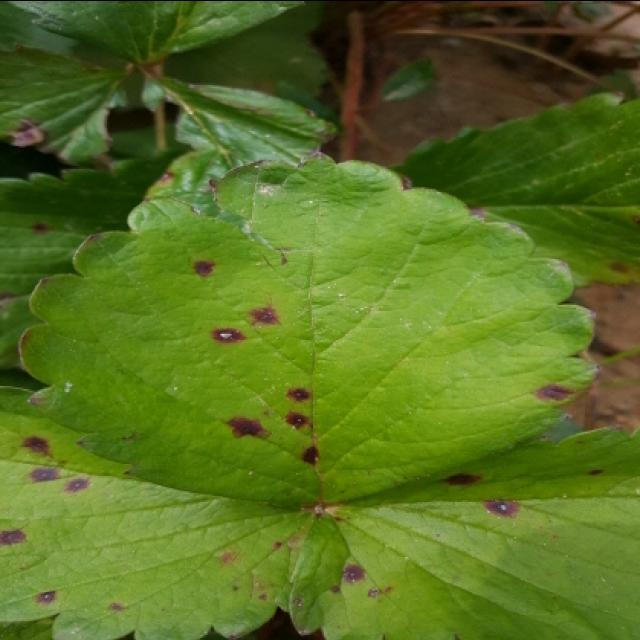Leaf Spot: (18, 149, 600, 504), (0, 384, 317, 638), (289, 424, 638, 638), (381, 89, 638, 289), (0, 149, 183, 368)
